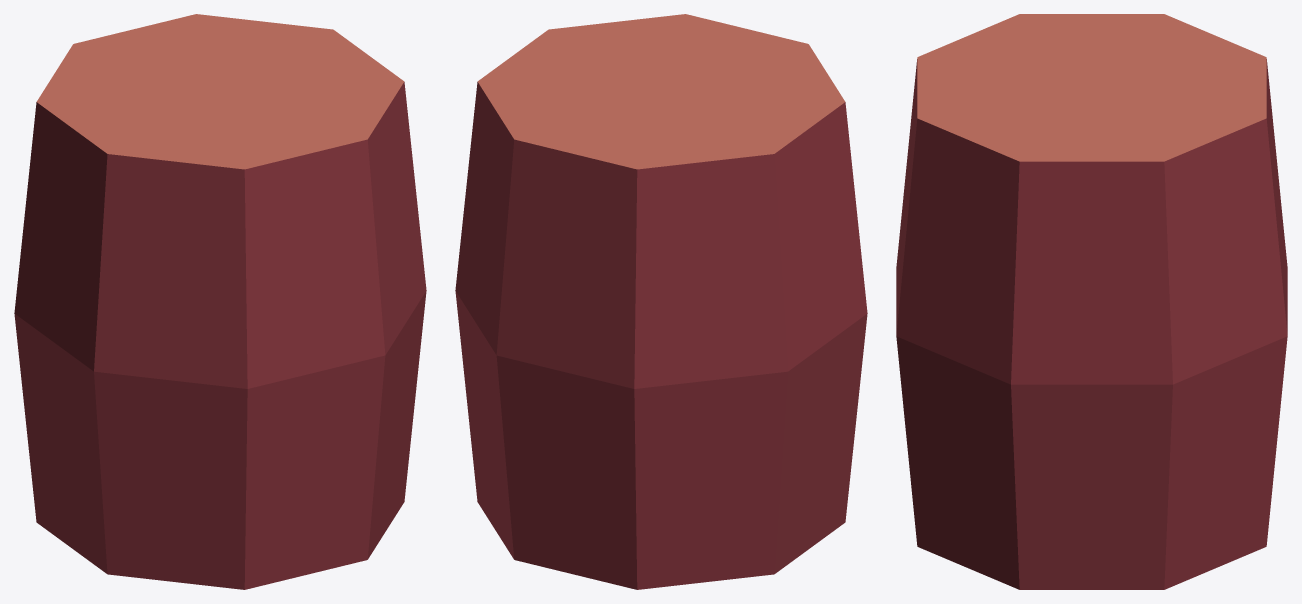
File: barrel.glb
3 renders of one model, left to right at view 1: azimuth 30°, elevation 25°; view 2: azimuth 150°, elevation 25°; view 3: azimuth 270°, elevation 25°, orthographic.
Visible parts, largest first — view 1: Barrel; view 2: Barrel; view 3: Barrel.
Boxes of the visible parts, x1,y1,x2,y2 form: Barrel: (14,14,426,589); Barrel: (455,14,867,589); Barrel: (896,14,1287,589).
Size of the model in its own units: 0.4553 by 0.55 by 0.4553.
